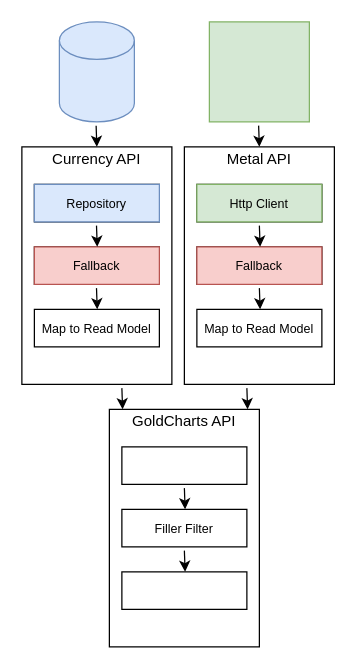
The diagram is 356 pixels wide and 669 high, and some of its shapes have lost their labels. The shapes that lost their labels are listed below. From the top down, each one's centre as x and y in pixels, then its label:
the point at 96,71: Currency DB
the point at 258,71: 3rd party Metal API
the point at 184,465: Requester Filter
the point at 184,590: Converter Filter
